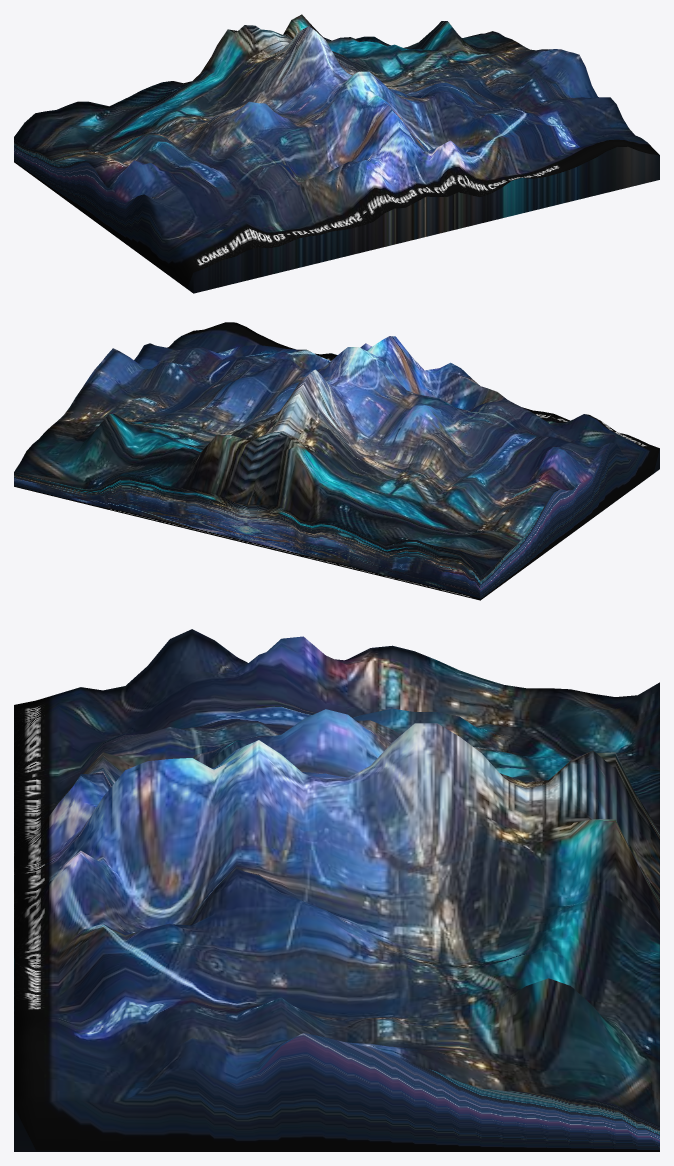
The model's file is TOWER_INT_03_Ley_Line_Nexus.glb.
3 views of the same model, one above another, from view 1: azimuth 30°, elevation 25°; view 2: azimuth 150°, elevation 25°; view 3: azimuth 270°, elevation 25° (orthographic). The views are drawn at different scales.
Parts seen in each view (by area): view 1: TOWER_INT_03_Ley_Line_Nexus; view 2: TOWER_INT_03_Ley_Line_Nexus; view 3: TOWER_INT_03_Ley_Line_Nexus.
Part boxes in pixels (x1,y1,x2,y2): TOWER_INT_03_Ley_Line_Nexus: (14,14,659,293); TOWER_INT_03_Ley_Line_Nexus: (14,322,659,600); TOWER_INT_03_Ley_Line_Nexus: (14,629,659,1151).
Bounding box in the file's own units: 2 × 0.51 × 1.33.
Materials: 1 (1 with a texture image).
